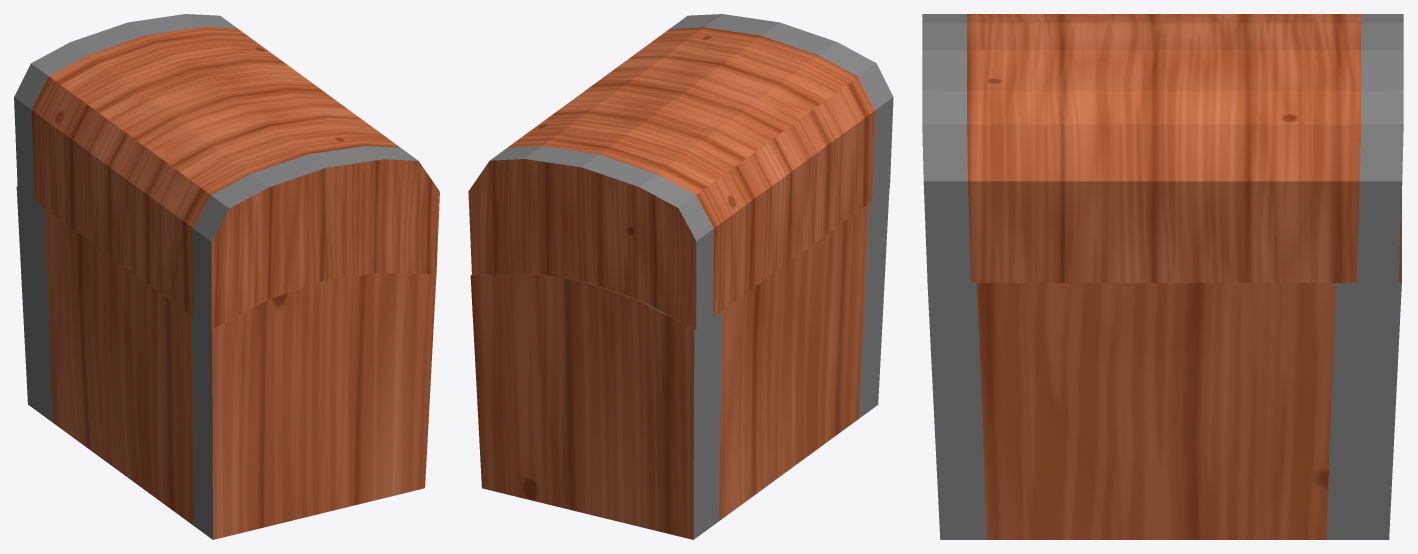
Rendered from chest3.glb.
The picture shows the model from 3 angles, left to right: view 1: azimuth 30°, elevation 25°; view 2: azimuth 150°, elevation 25°; view 3: azimuth 270°, elevation 25°; orthographic projection. The views are drawn at different scales.
Visible parts, largest first — view 1: chest, lid; view 2: chest, lid; view 3: lid, chest.
Boxes of the visible parts, x1,y1,x2,y2 form: chest: (16,186,436,539); lid: (14,14,439,330); chest: (470,189,889,539); lid: (468,14,893,329); lid: (922,14,1403,282); chest: (927,195,1401,539).
Bounding box in the file's own units: 0.2558 × 0.3764 × 0.3848.
2 materials, 1 textured.
